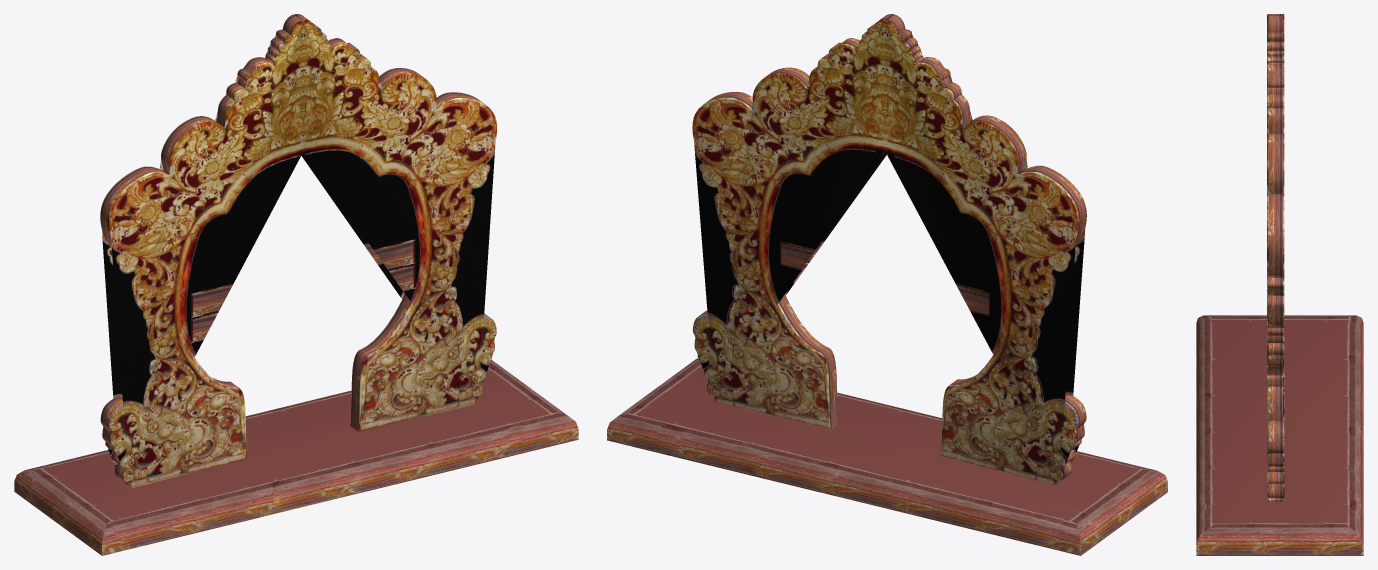
Rendered from kempur textur.fbx.
The picture shows the model from 3 angles, left to right: view 1: azimuth 30°, elevation 25°; view 2: azimuth 150°, elevation 25°; view 3: azimuth 270°, elevation 25°; orthographic projection. The views are drawn at different scales.
Visible parts, largest first — view 1: Extrude, Cube; view 2: Extrude, Cube; view 3: Cube, Extrude.
Part boxes in pixels (x1=…): Extrude: x1=100, y1=14, x2=496, y2=487; Cube: x1=14, y1=360, x2=578, y2=555; Extrude: x1=692, y1=14, x2=1086, y2=484; Cube: x1=607, y1=358, x2=1167, y2=555; Cube: x1=1196, y1=315, x2=1363, y2=555; Extrude: x1=1267, y1=14, x2=1284, y2=501.
Size of the model in its own units: 367 by 331 by 117.
Materials: 2 (2 with a texture image).
